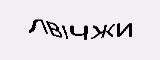І: (60, 23, 69, 40)
В: (45, 19, 62, 39)
Ж: (89, 23, 115, 42)
И: (116, 22, 133, 39)
Л: (27, 18, 48, 35)
Ч: (69, 23, 88, 41)
